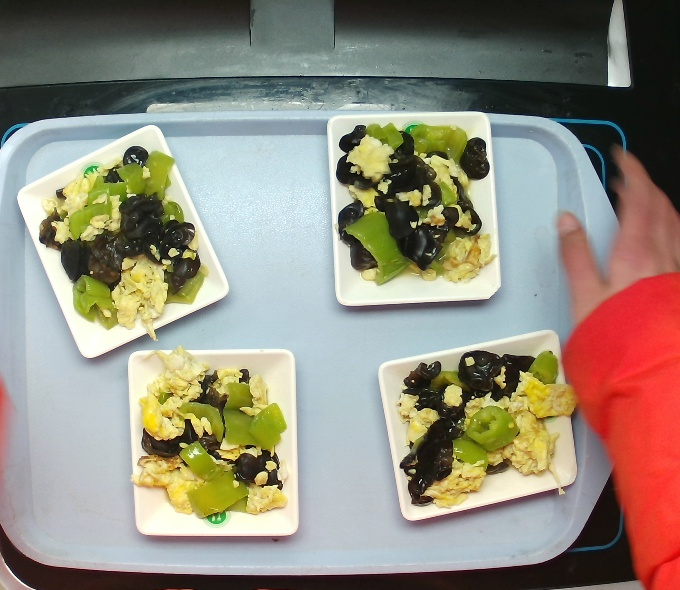wcq-MuErDanHuang: (45, 135, 201, 344), (390, 336, 569, 515), (333, 116, 493, 293), (136, 359, 293, 522)
